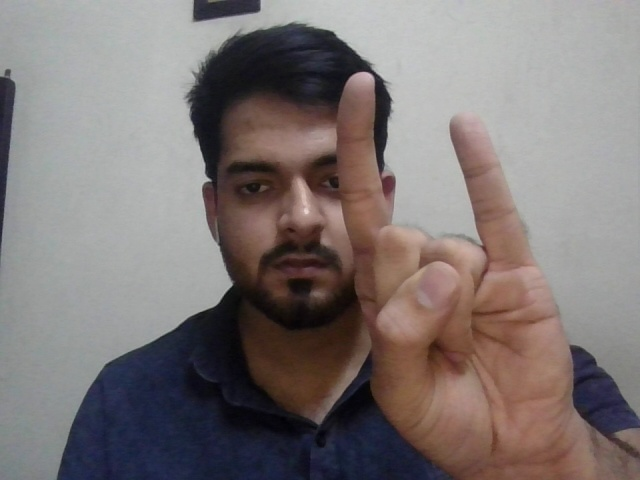iloveyou: (338, 71, 585, 461)
